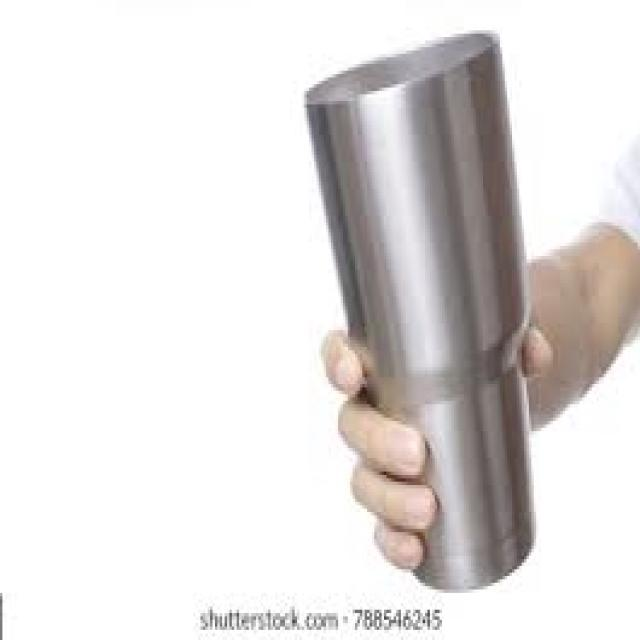bottle: (302, 31, 537, 592)
